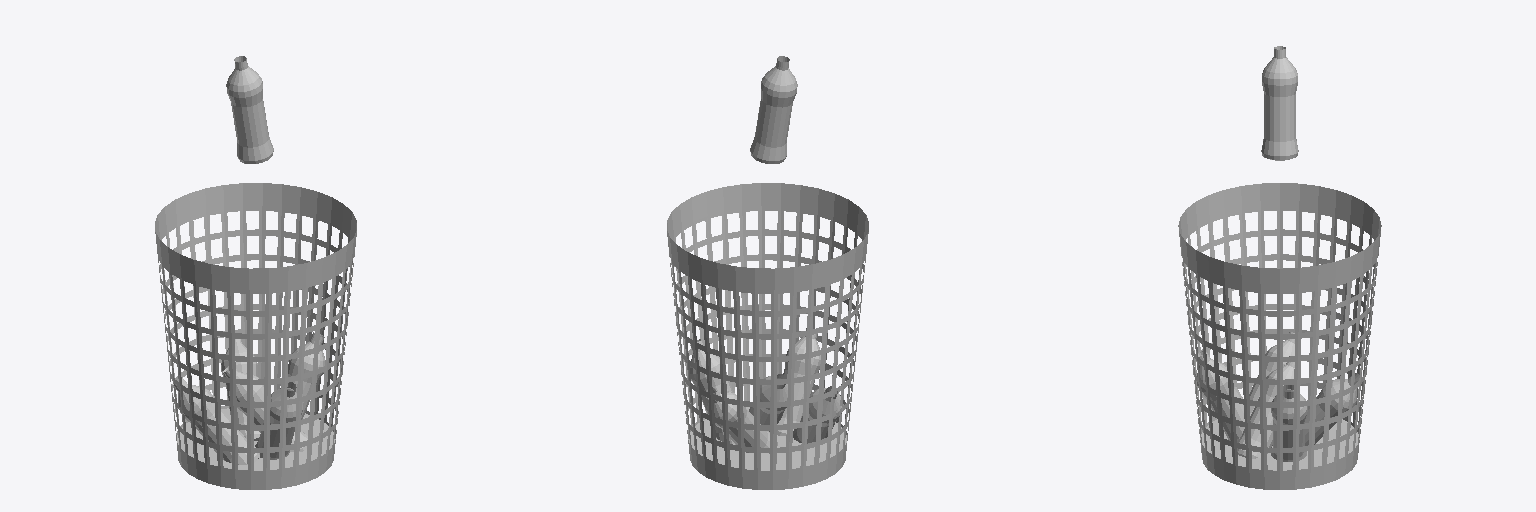
Rendered from DustbinWithCan_000014.obj.
3 renders of one model, left to right at view 1: azimuth 30°, elevation 25°; view 2: azimuth 150°, elevation 25°; view 3: azimuth 270°, elevation 25°, orthographic.
Parts seen in each view (by area): view 1: Cylinder, Plane.006, Plane.005, Plane.001, Plane.003, Plane.004, Plane.002; view 2: Cylinder, Plane.006, Plane.001, Plane.002, Plane.005, Plane.003, Plane.004; view 3: Cylinder, Plane.006, Plane.001, Plane.003, Plane.004, Plane.002, Plane.005.
Boxes of the visible parts, box(x1,y1,x2,y2) form: Cylinder: box(155, 183, 356, 489); Plane.006: box(226, 56, 273, 163); Plane.005: box(172, 378, 259, 464); Plane.001: box(255, 382, 302, 459); Plane.003: box(280, 332, 324, 419); Plane.004: box(223, 366, 307, 451); Plane.002: box(221, 339, 260, 440); Cylinder: box(667, 183, 868, 489); Plane.006: box(750, 56, 797, 163); Plane.001: box(777, 328, 820, 435); Plane.002: box(706, 388, 777, 452); Plane.005: box(793, 386, 843, 443); Plane.003: box(690, 339, 734, 443); Plane.004: box(749, 374, 787, 431); Cylinder: box(1178, 183, 1381, 489); Plane.006: box(1261, 46, 1298, 160); Plane.001: box(1197, 351, 1250, 440); Plane.003: box(1271, 385, 1307, 461); Plane.004: box(1237, 356, 1294, 458); Plane.002: box(1305, 373, 1359, 445); Plane.005: box(1249, 332, 1294, 413).
Bounding box in the file's own units: 2.6 × 5.69 × 2.6.